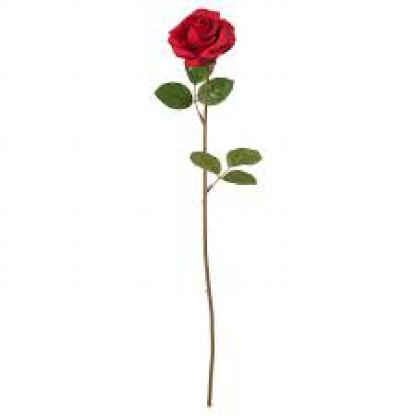Rose-Mawar: (164, 5, 241, 64)
